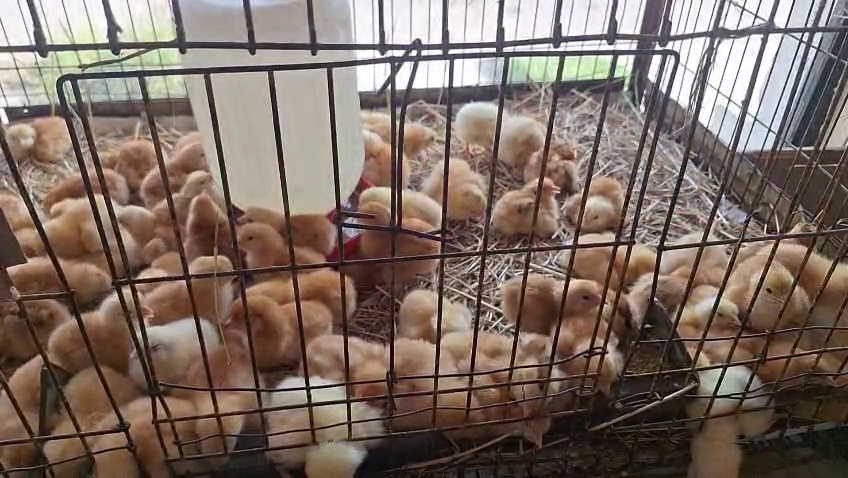Pollo: (264, 367, 398, 478), (0, 339, 95, 478), (178, 337, 276, 470), (40, 362, 142, 477), (684, 364, 783, 478), (216, 284, 334, 371), (402, 331, 486, 441), (245, 246, 350, 333), (106, 391, 205, 478), (300, 316, 399, 403), (111, 307, 209, 394), (474, 316, 572, 403), (537, 311, 635, 398), (49, 254, 123, 369), (346, 199, 450, 277), (645, 142, 735, 230), (498, 259, 605, 333), (480, 391, 578, 468), (233, 190, 350, 253), (389, 266, 477, 344), (428, 130, 504, 217), (475, 104, 550, 191), (29, 194, 123, 262), (737, 256, 815, 337), (105, 133, 184, 208), (484, 174, 563, 247), (14, 162, 111, 220), (675, 281, 755, 349), (559, 231, 663, 283), (183, 188, 257, 261), (0, 249, 92, 307), (138, 173, 212, 241), (564, 178, 640, 243), (668, 225, 751, 282), (608, 281, 681, 337), (0, 115, 77, 168), (187, 272, 261, 327), (356, 162, 444, 207), (137, 261, 208, 316), (387, 129, 445, 194), (518, 137, 573, 189), (114, 248, 189, 280), (231, 239, 294, 272), (106, 214, 149, 262)
